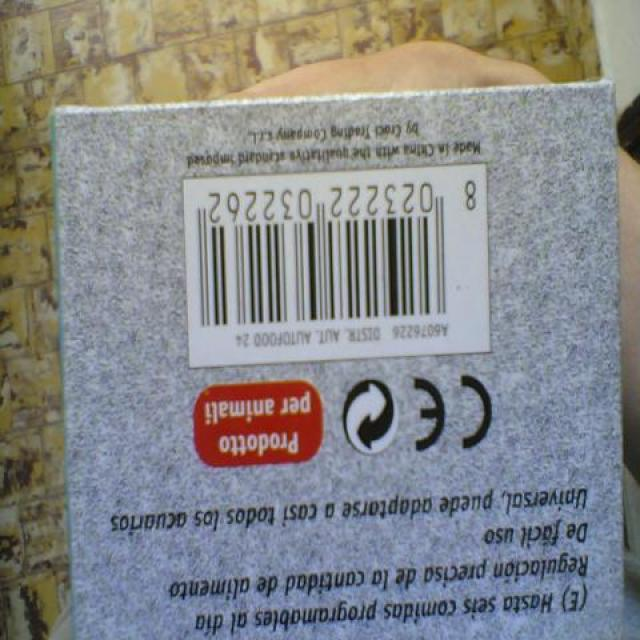Barcode: (183, 163, 490, 365)
